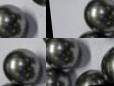ironball: (2, 48, 42, 84), (46, 37, 79, 69), (0, 4, 31, 38), (83, 0, 113, 30), (75, 67, 109, 85), (101, 44, 113, 83), (47, 69, 73, 85)
